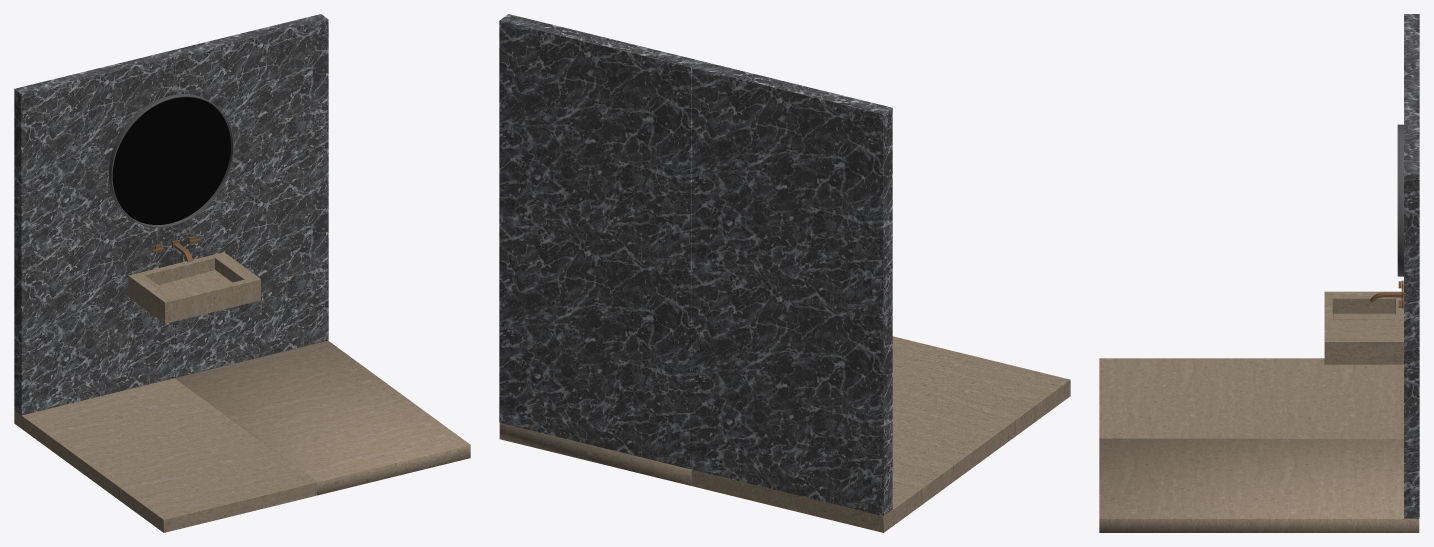
File: notexture.fbx
3 views of the same model, side by side, from view 1: azimuth 30°, elevation 25°; view 2: azimuth 150°, elevation 25°; view 3: azimuth 270°, elevation 25° (orthographic). The views are drawn at different scales.
Parts seen in each view (by area): view 1: Cube.001, Cube_1, Cube_3, Cube_2, Disc, Alakzat___016_2, Tube; view 2: Cube.001, Cube_1, Cube_3, Cube_2; view 3: Cube_2, Cube_3, Cube_1, Alakzat___016_2, Cube.001, Tube.
Part boxes in pixels (x1,y1,x2,y2): Cube.001: [14, 51, 174, 415]; Cube_1: [168, 14, 328, 377]; Cube_3: [14, 378, 317, 532]; Cube_2: [175, 340, 470, 495]; Disc: [112, 97, 230, 224]; Alakzat___016_2: [128, 252, 260, 323]; Tube: [108, 94, 234, 227]; Cube.001: [691, 61, 892, 516]; Cube_1: [499, 14, 699, 469]; Cube_3: [691, 336, 1070, 532]; Cube_2: [499, 423, 691, 485]; Cube_2: [1099, 438, 1419, 532]; Cube_3: [1099, 358, 1403, 438]; Cube_1: [1404, 94, 1419, 518]; Alakzat___016_2: [1324, 291, 1403, 364]; Cube.001: [1404, 14, 1419, 94]; Tube: [1397, 124, 1403, 276].
Size of the model in its own units: 240 by 250 by 202.
